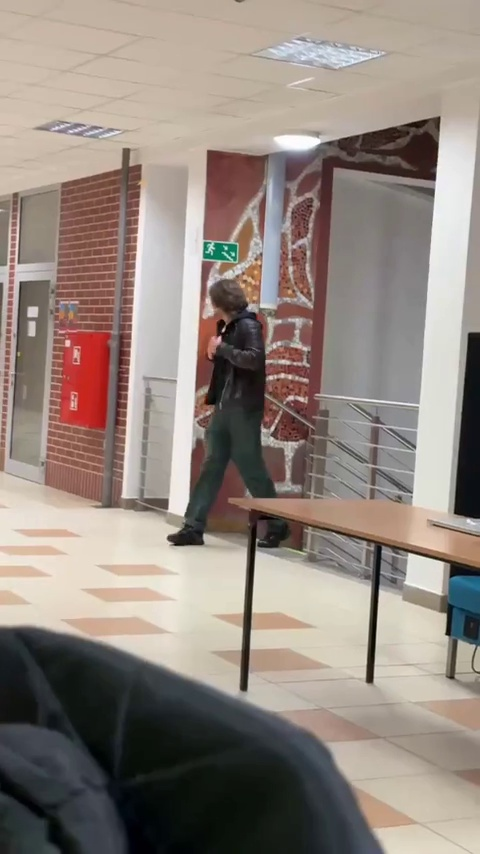no vest: (175, 282, 295, 548)
